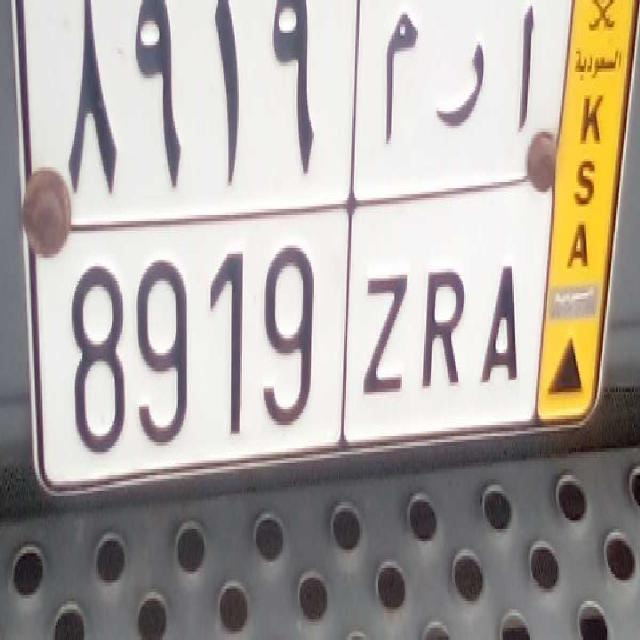license_plate: (54, 202, 544, 476)
